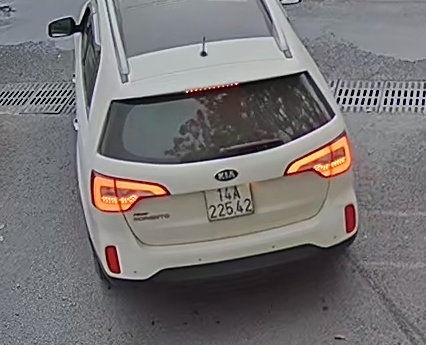vehicle plate: (198, 183, 260, 219)
